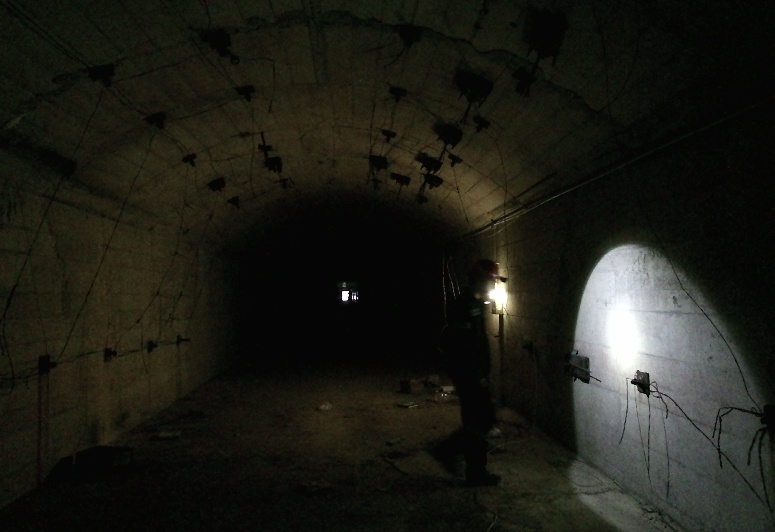person: (416, 259, 508, 492)
